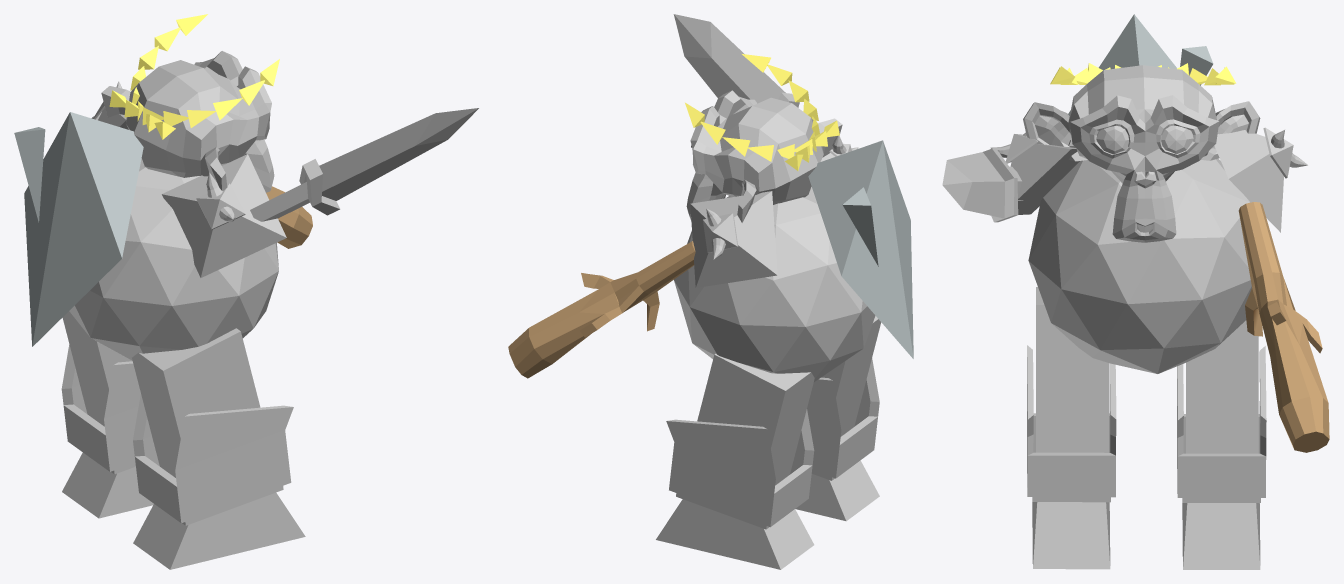
Rendered from monkeymech.fbx.
3 renders of one model, left to right at view 1: azimuth 30°, elevation 25°; view 2: azimuth 150°, elevation 25°; view 3: azimuth 270°, elevation 25°, orthographic. The views are drawn at different scales.
Visible parts, largest first — view 1: Cube_003, Icosphere_001, Icosphere, Suzanne, Cube_004, Cube_002, Cube, Cone_001, laurel, Cube_001, Cone_000, Cylinder; view 2: Icosphere_001, Cube_002, Icosphere, Suzanne, Cylinder, Cube_003, Cube_001, Cone_002, Cube, laurel, Cube_004, Cone_003; view 3: Icosphere_001, Suzanne, Cube_002, Cube_003, Cylinder, Cube_004, Cube_001, Cube, Cone_002, Icosphere, Cone_001, laurel (+2 smaller).
Boxes of the visible parts, x1,y1,x2,y2 form: Cube_003: (133,394,305,569); Icosphere_001: (69,158,278,360); Icosphere: (14,112,143,346); Suzanne: (101,51,274,192); Cube_004: (132,328,260,477); Cube_002: (61,345,153,518); Cube: (250,108,478,221); Cone_001: (161,154,286,277); laurel: (109,14,279,139); Cube_001: (62,311,132,426); Cone_000: (196,172,245,229); Cylinder: (266,186,312,248); Icosphere_001: (674,187,875,381); Cube_002: (656,392,814,569); Icosphere: (808,140,913,358); Suzanne: (686,90,842,222); Cylinder: (508,241,695,378); Cube_003: (795,358,879,521); Cube_001: (697,353,814,485); Cone_002: (690,191,777,287); Cube: (673,14,799,107); laurel: (685,54,839,170); Cube_004: (821,316,881,436); Cone_003: (703,208,738,259); Icosphere_001: (1028,158,1251,373); Suzanne: (1023,65,1260,242); Cube_002: (1177,346,1266,569); Cube_003: (1027,345,1116,569); Cylinder: (1238,202,1329,452); Cube_004: (1036,287,1108,452); Cube_001: (1186,320,1258,453); Cube: (942,148,1023,222); Cone_002: (1214,130,1283,232); Icosphere: (1068,14,1213,115); Cone_001: (1010,143,1079,214); laurel: (1050,63,1236,85).
Bounding box in the file's own units: 316 × 393 × 281.
